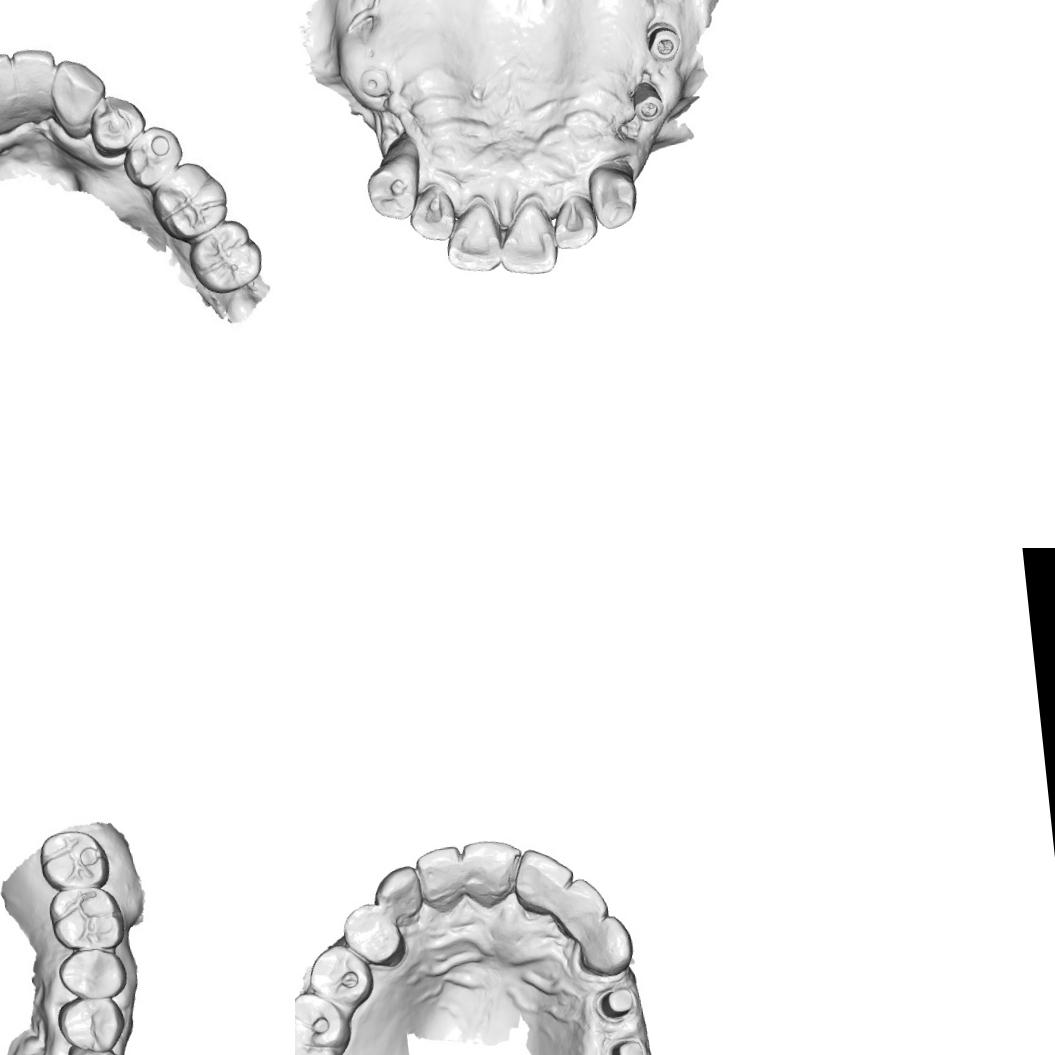abutment: (596, 985, 637, 1022), (608, 1037, 646, 1055)
canine: (51, 55, 110, 136), (363, 150, 425, 224), (574, 912, 636, 980), (585, 162, 640, 232), (370, 863, 426, 924), (66, 1038, 127, 1055)
implant: (644, 22, 684, 65), (630, 78, 666, 124)
incisor: (494, 198, 561, 279), (509, 844, 578, 920), (460, 836, 526, 910), (441, 201, 506, 276), (414, 844, 467, 916), (7, 43, 62, 112), (555, 874, 612, 938), (405, 182, 459, 245), (550, 190, 601, 252), (0, 50, 18, 126)
molar: (147, 157, 232, 247), (188, 212, 268, 296), (46, 884, 127, 955), (37, 827, 111, 893), (295, 987, 355, 1055)
premolar: (304, 940, 377, 1012), (339, 899, 409, 973), (54, 992, 128, 1055), (84, 91, 152, 158), (121, 122, 186, 190), (55, 945, 129, 1004)
